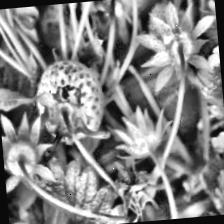Gray Mold: (110, 155, 168, 224)
